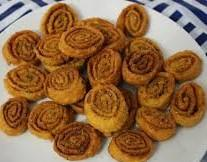bhakarwadi: (3, 3, 206, 160)
